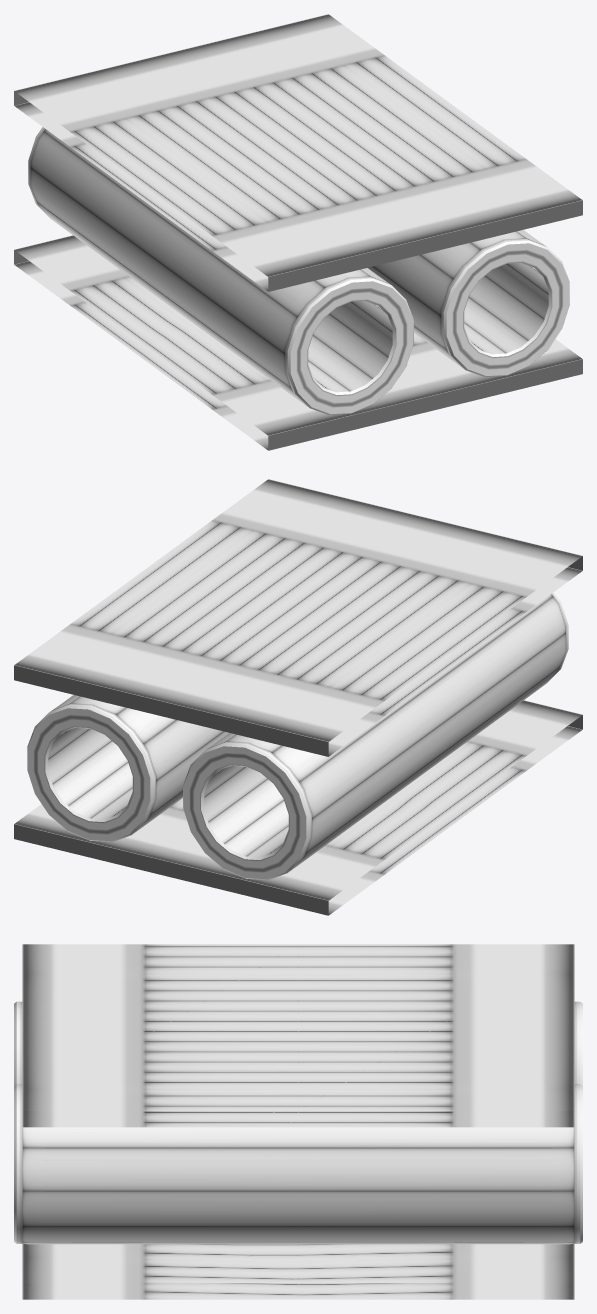
File: ConvMid.FBX
The picture shows the model from 3 angles, top to bottom: view 1: azimuth 30°, elevation 25°; view 2: azimuth 150°, elevation 25°; view 3: azimuth 270°, elevation 25°; orthographic projection. The views are drawn at different scales.
Visible parts, largest first — view 1: Coveyer_Middle; view 2: Coveyer_Middle; view 3: Coveyer_Middle.
Part boxes in pixels (<box>): Coveyer_Middle: <box>14,14,582,450</box>; Coveyer_Middle: <box>14,479,582,915</box>; Coveyer_Middle: <box>14,944,582,1299</box>.
Size of the model in its own units: 14.28 by 7.53 by 20.6.
